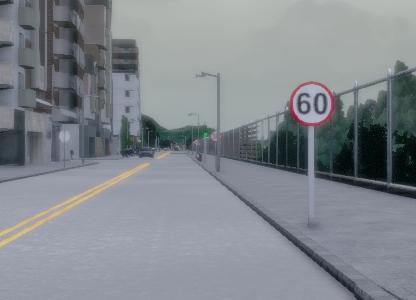Speed_60: (289, 81, 335, 130)
